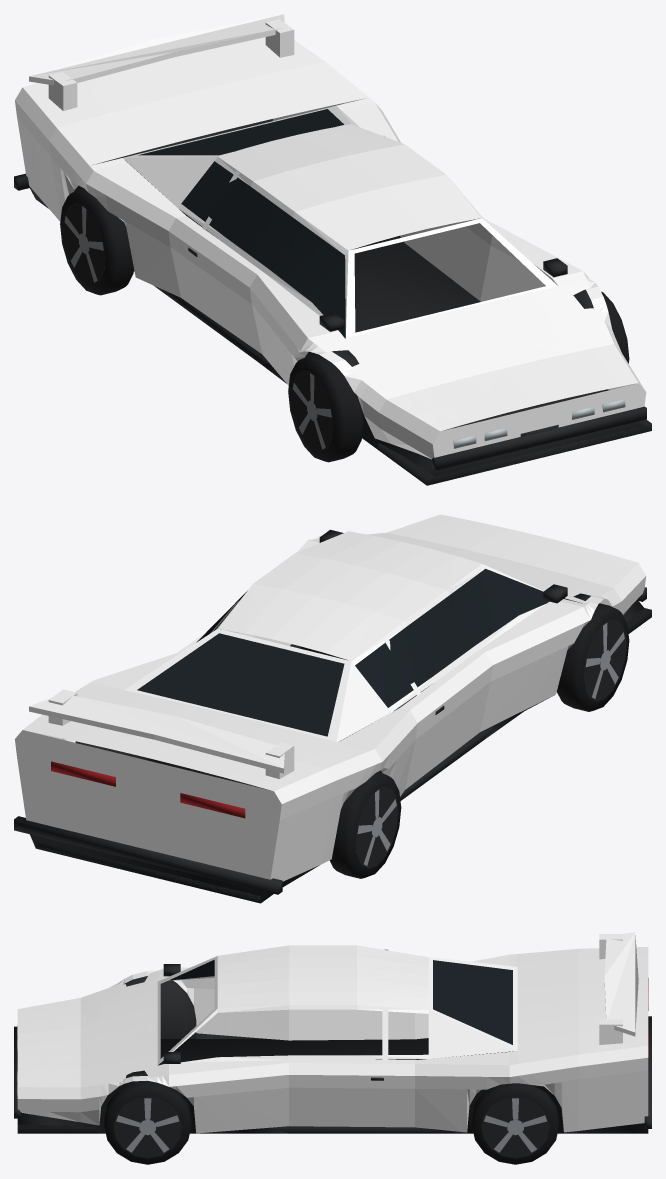
Rendered from cutler_cintila.glb.
The picture shows the model from 3 angles, top to bottom: view 1: azimuth 30°, elevation 25°; view 2: azimuth 150°, elevation 25°; view 3: azimuth 270°, elevation 25°; orthographic projection. The views are drawn at different scales.
Parts seen in each view (by area): view 1: Body_Paint, Body_Details, Mount_FrontLeft_Wheel_Details, Mount_RearLeft_Wheel_Details; view 2: Body_Paint, Body_Details, Mount_RearLeft_Wheel_Details, Mount_FrontLeft_Wheel_Details; view 3: Body_Paint, Body_Details, Mount_FrontRight_Wheel_Details, Mount_RearRight_Wheel_Details.
Boxes of the visible parts, x1=… form: Body_Paint: x1=15, y1=14, x2=646, y2=459; Body_Details: x1=14, y1=109, x2=651, y2=485; Mount_FrontLeft_Wheel_Details: x1=288, y1=354, x2=363, y2=462; Mount_RearLeft_Wheel_Details: x1=60, y1=188, x2=133, y2=295; Body_Paint: x1=15, y1=514, x2=646, y2=881; Body_Details: x1=14, y1=529, x2=651, y2=903; Mount_RearLeft_Wheel_Details: x1=329, y1=772, x2=401, y2=878; Mount_FrontLeft_Wheel_Details: x1=556, y1=603, x2=629, y2=711; Body_Paint: x1=17, y1=932, x2=648, y2=1133; Body_Details: x1=14, y1=959, x2=651, y2=1133; Mount_FrontRight_Wheel_Details: x1=104, y1=1080, x2=191, y2=1164; Mount_RearRight_Wheel_Details: x1=471, y1=1083, x2=559, y2=1164.
Bounding box in the file's own units: 2.11 × 1.15 × 4.88.
Materials: 2 (1 with a texture image).
